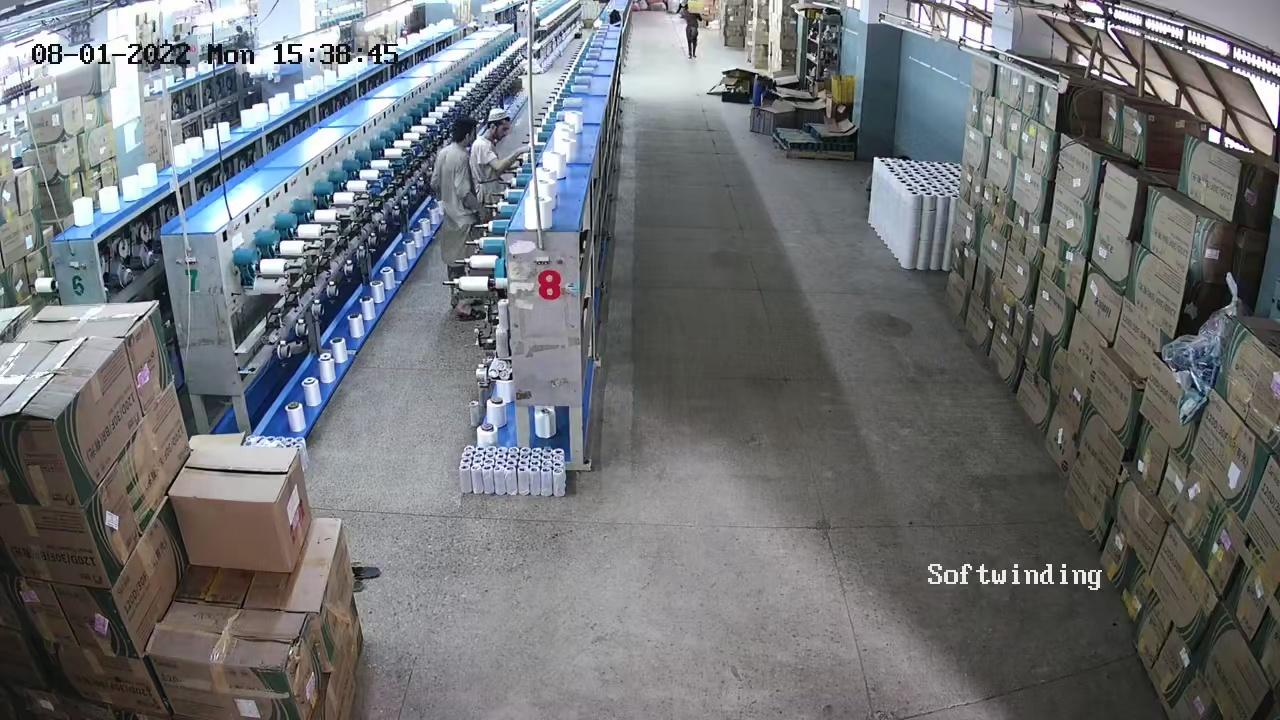person: (432, 117, 476, 285), (482, 105, 514, 185)
